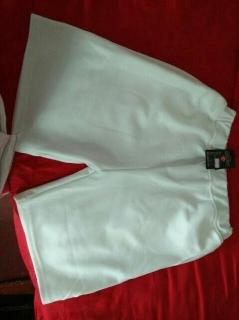shorts: (9, 13, 237, 305)
